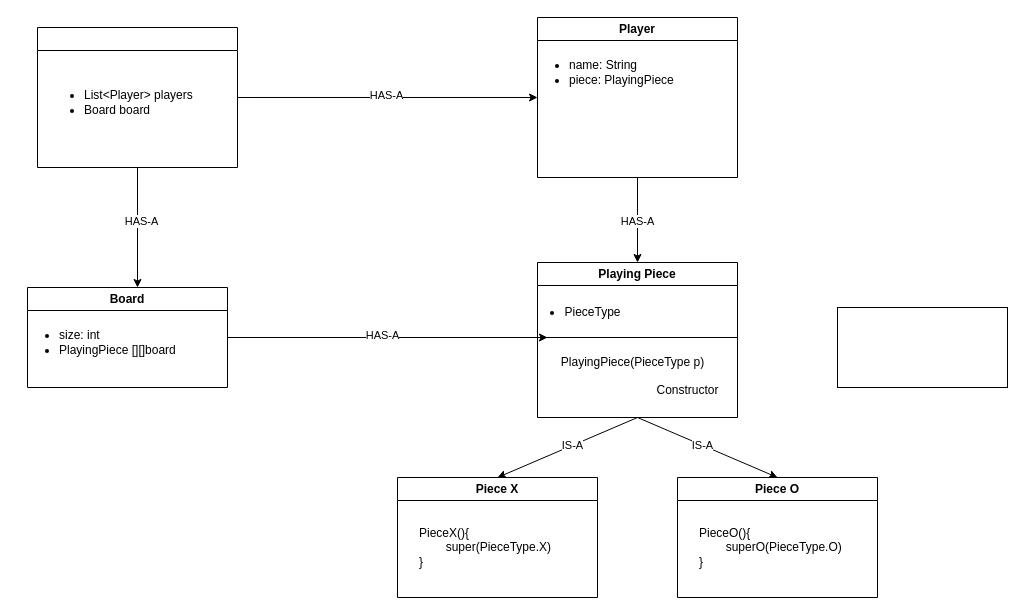
This 1025x615 diagram has some shape labels left out. Each missing label, with the box of its shape:
EnumPieceType{ X, O }: (836, 306, 1008, 388)
Game: (36, 26, 238, 168)
